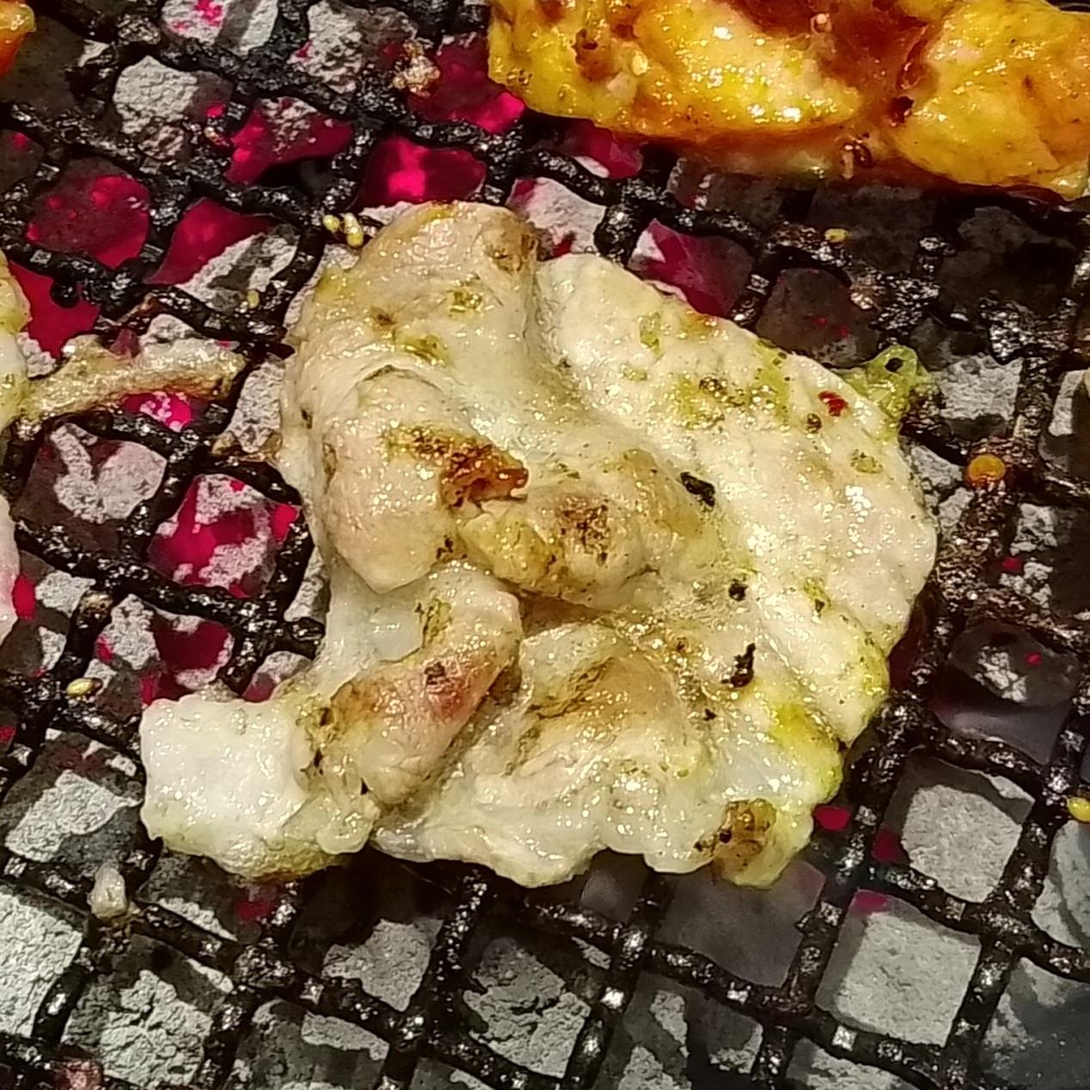Well-Cooked: (137, 202, 930, 889)
